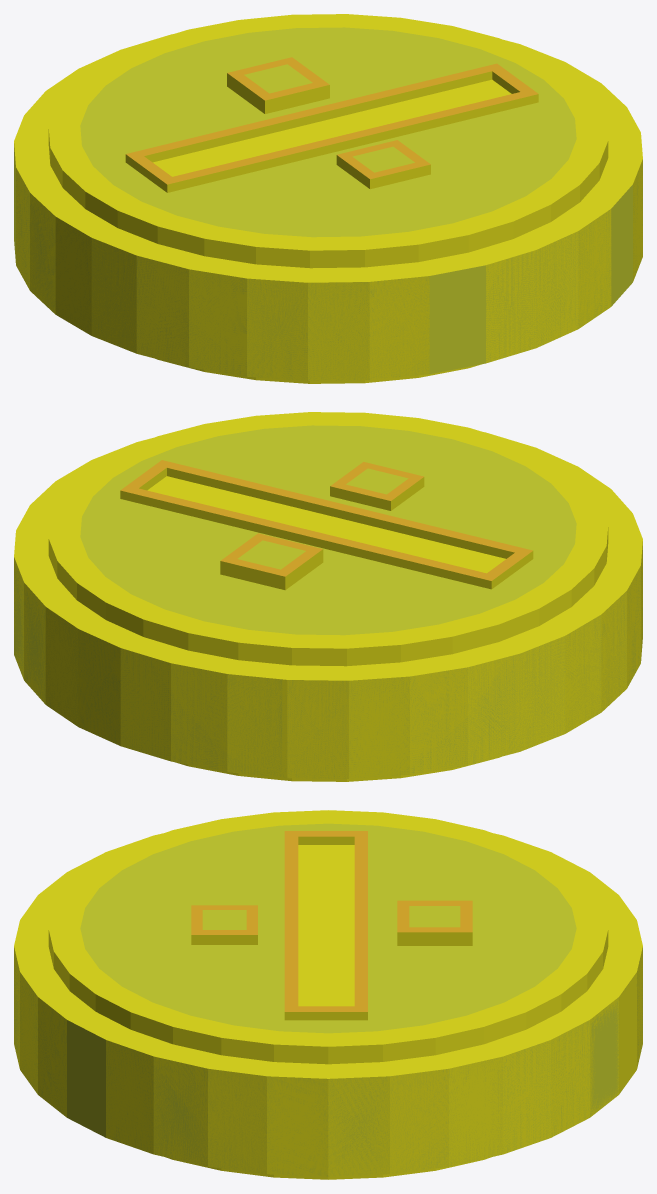
The model's file is Coin1.fbx.
The picture shows the model from 3 angles, top to bottom: view 1: azimuth 30°, elevation 25°; view 2: azimuth 150°, elevation 25°; view 3: azimuth 270°, elevation 25°; orthographic projection.
Parts seen in each view (by area): view 1: Циліндр; view 2: Циліндр; view 3: Циліндр.
Part boxes in pixels (<box>): Циліндр: <box>14,14,642,383</box>; Циліндр: <box>14,412,642,781</box>; Циліндр: <box>14,810,642,1179</box>.
Bounding box in the file's own units: 200 × 56.17 × 200.
